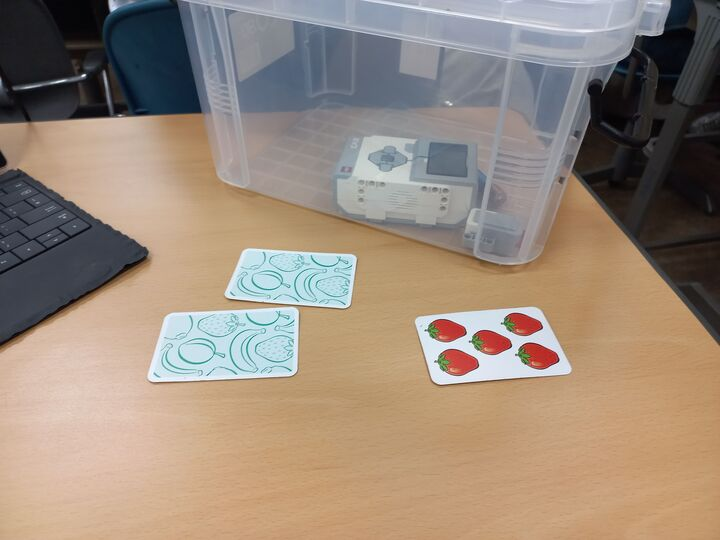strawberry5: (413, 305, 575, 387)
